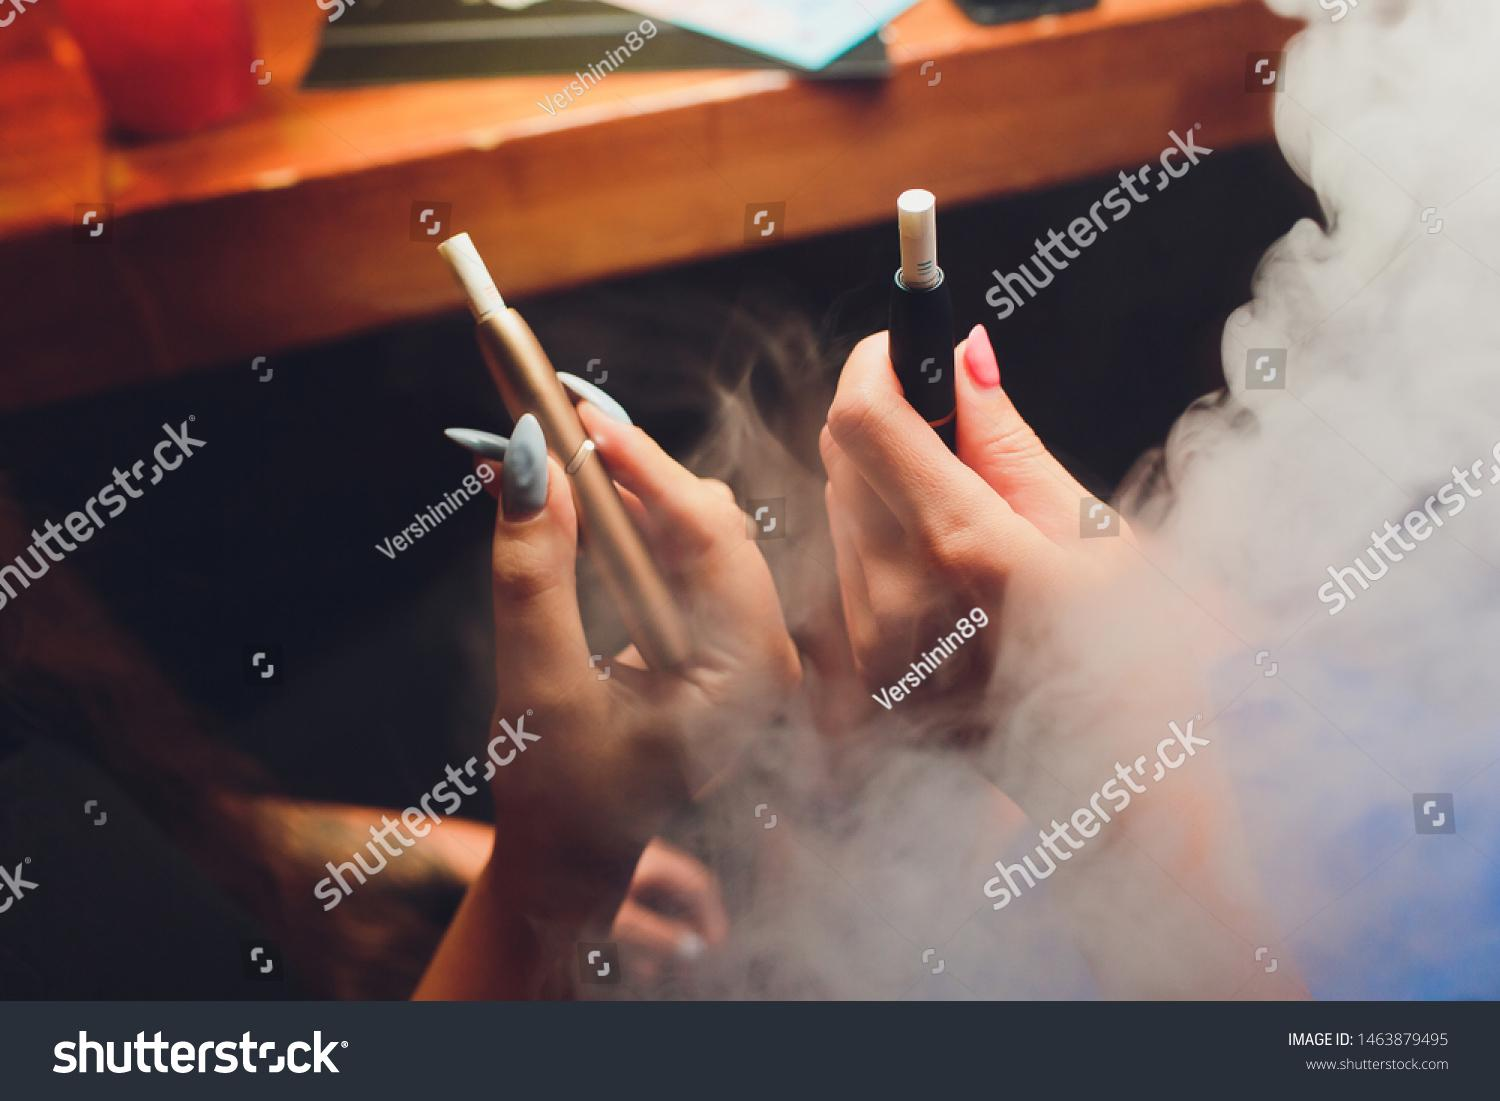iqos: (439, 233, 691, 671), (887, 189, 955, 451)
